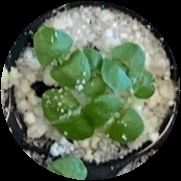Basil: (37, 26, 89, 85), (40, 90, 86, 142), (90, 101, 141, 142), (105, 45, 140, 94), (83, 47, 108, 102), (129, 57, 153, 102)
